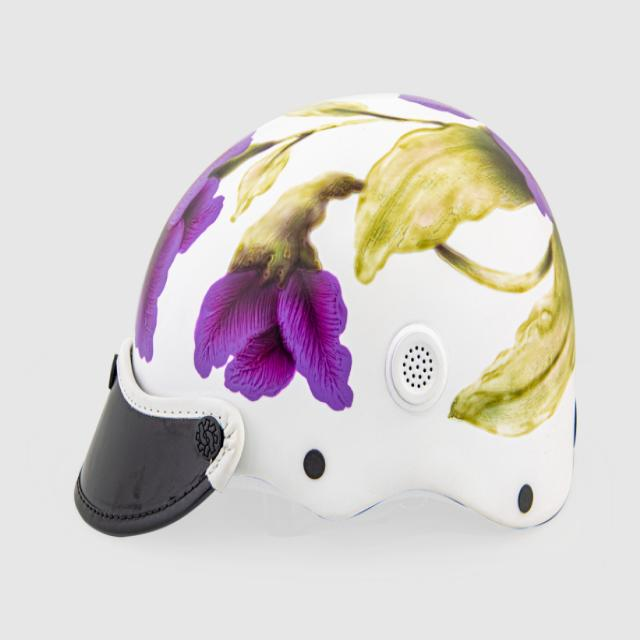Helmet: (72, 89, 580, 538)
